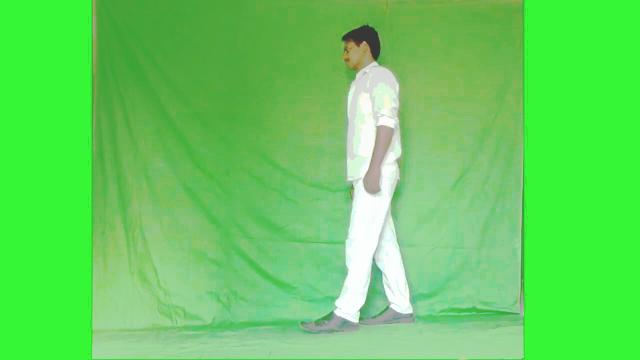berjalan: (295, 19, 421, 330)
